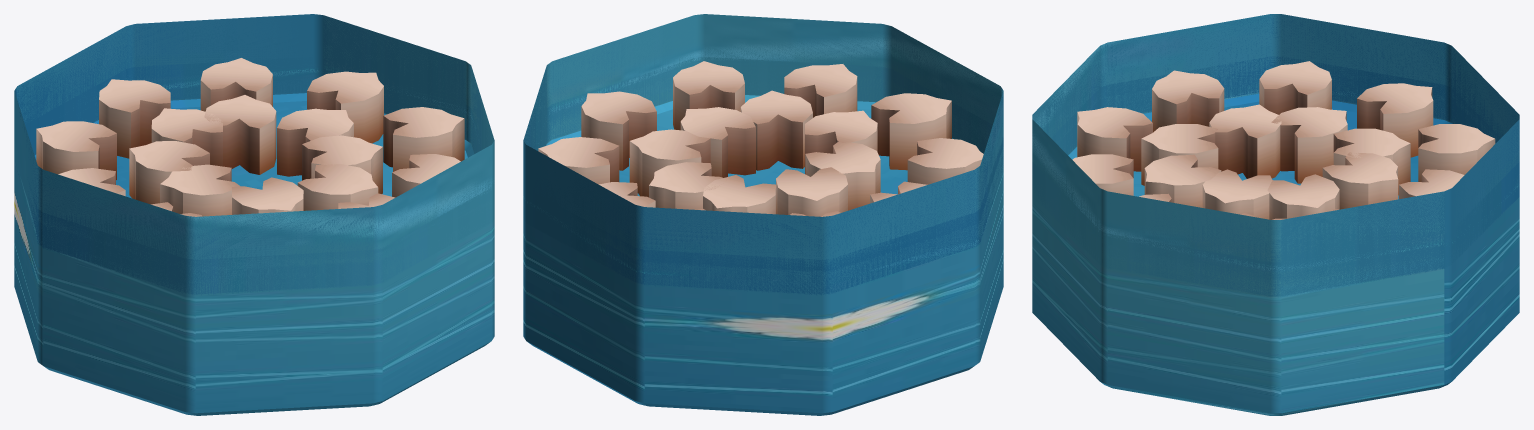
File: choc.fbx
3 views of the same model, side by side, from view 1: azimuth 30°, elevation 25°; view 2: azimuth 150°, elevation 25°; view 3: azimuth 270°, elevation 25° (orthographic).
Parts seen in each view (by area): view 1: pCylinder1, pCube5, pCube16, pCube9, pCube10, pCube17, pCube8, pCube7, pCube4, pCube2, pCube18, pCube3 (+4 smaller); view 2: pCylinder1, pCube13, pCube2, pCube3, pCube16, pCube15, pCube4, pCube7, pCube14, pCube8, pCube12, pCube17 (+4 smaller); view 3: pCylinder1, pCube8, pCube7, pCube10, pCube12, pCube13, pCube11, pCube5, pCube9, pCube1, pCube2, pCube3 (+4 smaller).
Boxes of the visible parts, x1=… form: pCylinder1: x1=14, y1=14, x2=494, y2=415; pCube5: x1=204, y1=95, x2=276, y2=174; pCube16: x1=383, y1=107, x2=464, y2=171; pCube9: x1=99, y1=79, x2=170, y2=158; pCube10: x1=36, y1=121, x2=116, y2=179; pCube17: x1=307, y1=71, x2=383, y2=143; pCube8: x1=160, y1=164, x2=239, y2=216; pCube7: x1=129, y1=141, x2=209, y2=204; pCube4: x1=277, y1=108, x2=353, y2=176; pCube2: x1=297, y1=164, x2=378, y2=210; pCube18: x1=200, y1=58, x2=272, y2=111; pCube3: x1=302, y1=135, x2=382, y2=193; pCylinder1: x1=523, y1=14, x2=1003, y2=415; pCube13: x1=871, y1=93, x2=951, y2=170; pCube2: x1=740, y1=90, x2=812, y2=170; pCube3: x1=680, y1=107, x2=755, y2=177; pCube16: x1=581, y1=91, x2=656, y2=170; pCube15: x1=673, y1=61, x2=744, y2=130; pCube4: x1=629, y1=129, x2=710, y2=197; pCube7: x1=776, y1=167, x2=847, y2=216; pCube14: x1=784, y1=64, x2=857, y2=117; pCube8: x1=805, y1=141, x2=880, y2=210; pCube12: x1=907, y1=138, x2=983, y2=184; pCube17: x1=538, y1=137, x2=619, y2=184; pCylinder1: x1=1032, y1=14, x2=1519, y2=415; pCube8: x1=1209, y1=104, x2=1281, y2=178; pCube7: x1=1271, y1=107, x2=1347, y2=183; pCube10: x1=1357, y1=83, x2=1433, y2=157; pCube12: x1=1152, y1=70, x2=1224, y2=132; pCube13: x1=1077, y1=107, x2=1152, y2=171; pCube11: x1=1259, y1=61, x2=1331, y2=114; pCube5: x1=1322, y1=152, x2=1398, y2=209; pCube9: x1=1418, y1=124, x2=1495, y2=181; pCube1: x1=1141, y1=124, x2=1218, y2=185; pCube2: x1=1144, y1=154, x2=1221, y2=207; pCube3: x1=1202, y1=169, x2=1272, y2=219.
Bounding box in the file's own units: 5.61 × 2.52 × 5.61.
Materials: 2 (2 with a texture image).
